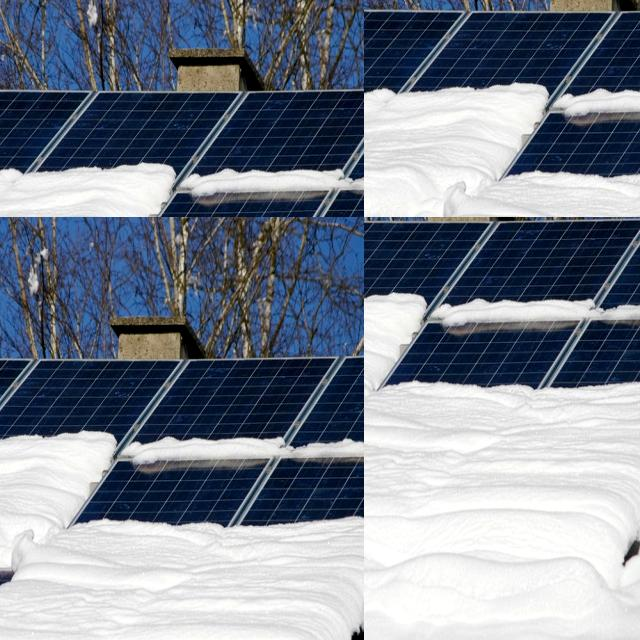bird: (522, 75, 605, 217), (364, 34, 389, 129), (619, 50, 640, 135)
crack: (0, 0, 96, 191)
dust: (0, 386, 78, 464), (154, 567, 225, 640), (70, 481, 125, 547), (0, 498, 23, 590), (0, 533, 20, 620), (0, 375, 20, 452), (0, 460, 35, 503)
panel: (436, 278, 606, 337), (462, 354, 556, 424), (364, 273, 430, 353), (372, 352, 454, 416), (364, 283, 461, 330), (568, 363, 640, 426), (364, 268, 441, 325), (580, 258, 640, 330), (609, 456, 640, 586), (364, 381, 419, 454), (364, 386, 422, 451), (364, 458, 414, 516), (364, 452, 402, 513), (364, 302, 389, 373), (364, 382, 386, 457)
